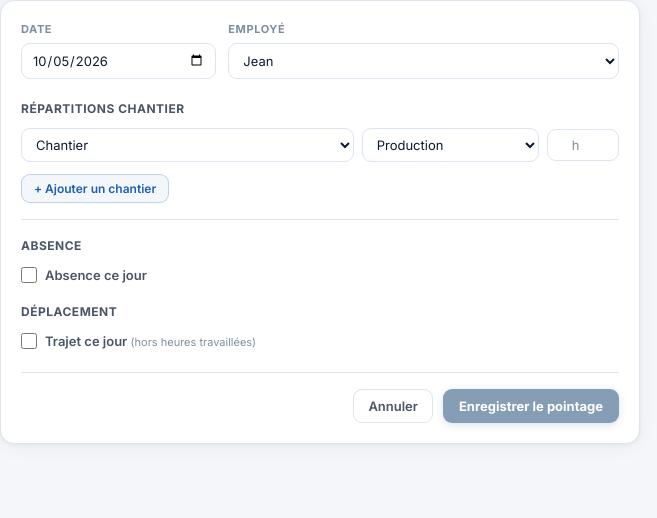
Test: REV-02 : écriture qui n'aboutit pas → pas de faux succès, saisie conservée et erreur affichée
Step 1. Select "Chantier" in the dropdown named "Chantier" → (187, 145), box [21,128,354,162]
Step 2. Type "5" into the number field named "Heures" → (583, 145), box [547,129,619,161]
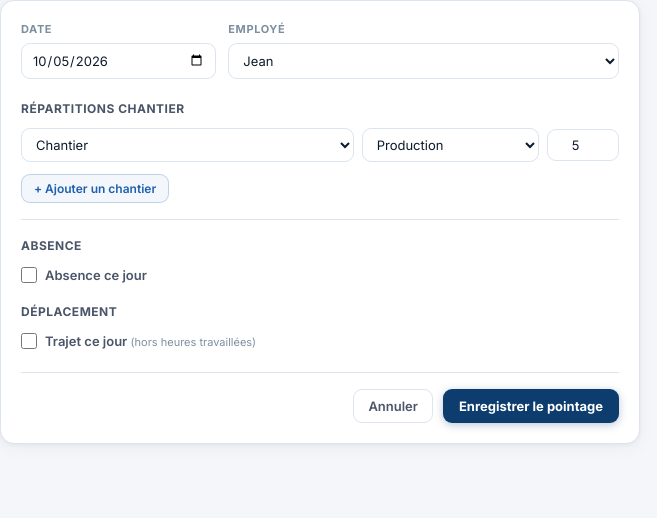
Step 3. Click the button "Enregistrer le pointage" → click(531, 406), box [443,389,619,423]
Wait 3100 ms
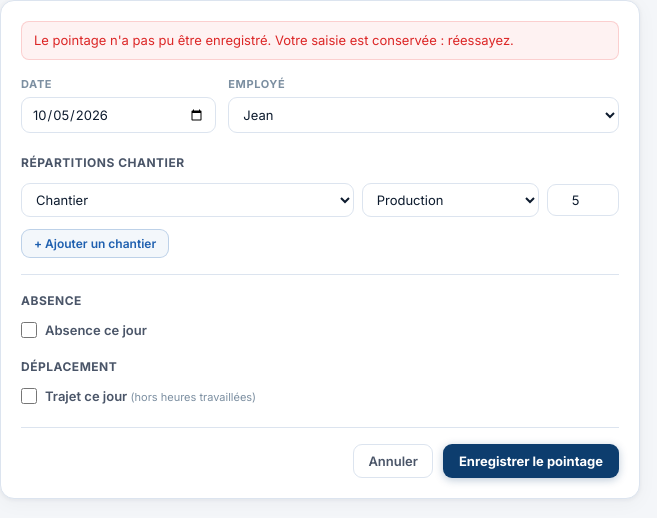
Check: the text "n'a pas pu être enregistré" is shown, box [34,32,514,48]
